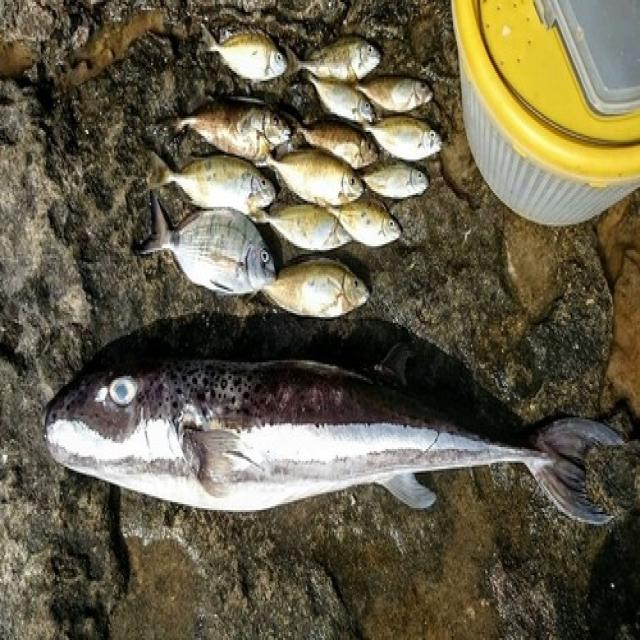Balik: (44, 361, 620, 523), (137, 195, 275, 293), (172, 99, 290, 161), (150, 156, 275, 214), (263, 258, 369, 319), (265, 150, 363, 206), (254, 203, 351, 250), (203, 26, 286, 80), (296, 36, 381, 82), (297, 121, 378, 169), (363, 117, 441, 161), (329, 199, 401, 246), (309, 75, 375, 124), (356, 75, 432, 112), (361, 162, 428, 198)
